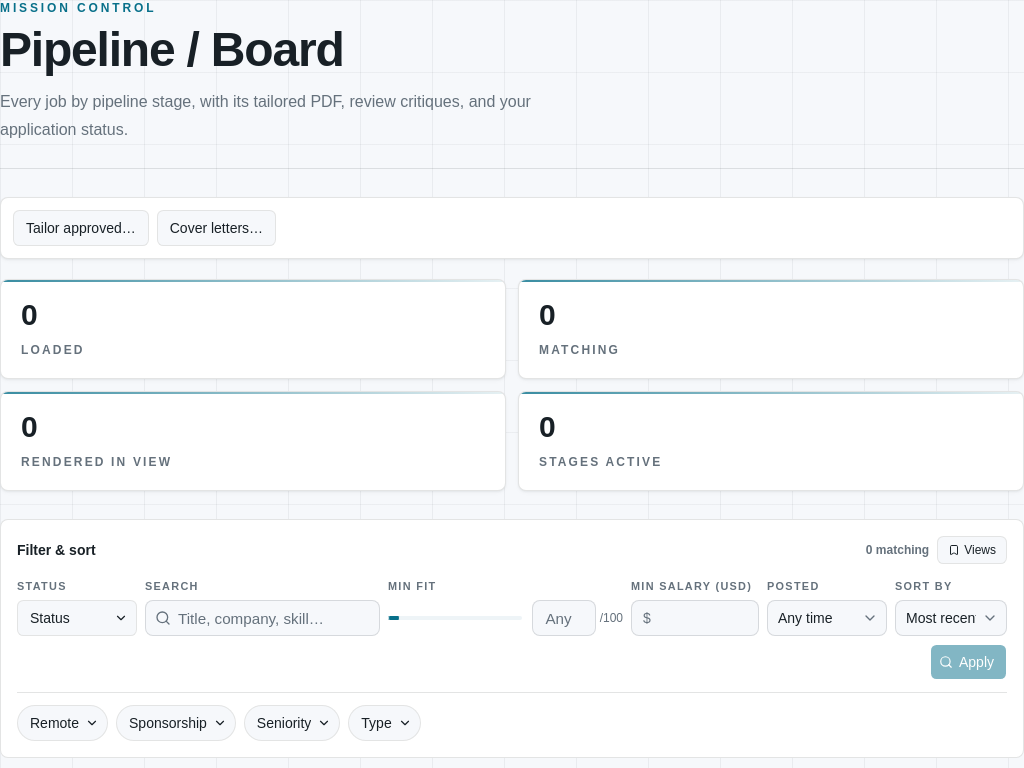
Test: PipelineContainer › opens tailoring with the complete approved-job query
Click the button "Tailor approved…": (81, 228) [13,210,149,246]
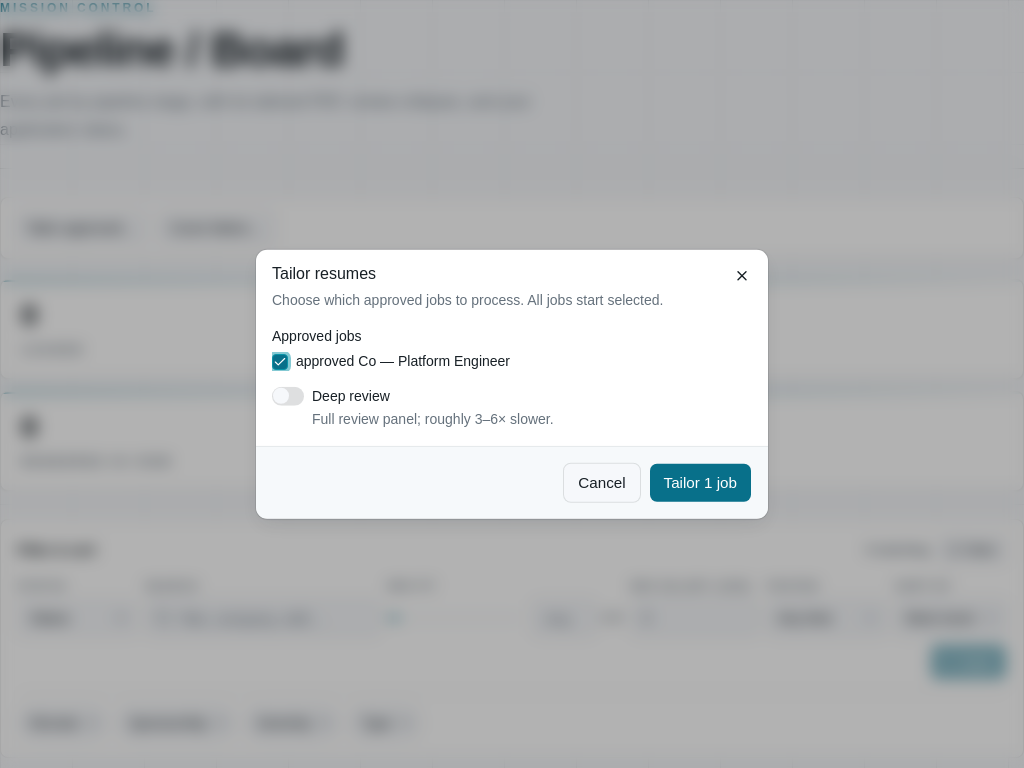
Check: the heading "Tailor resumes" is shown, box [272,265,376,282]
Check: the checkbox named "Platform Engineer" is checked, box [272,353,288,369]
